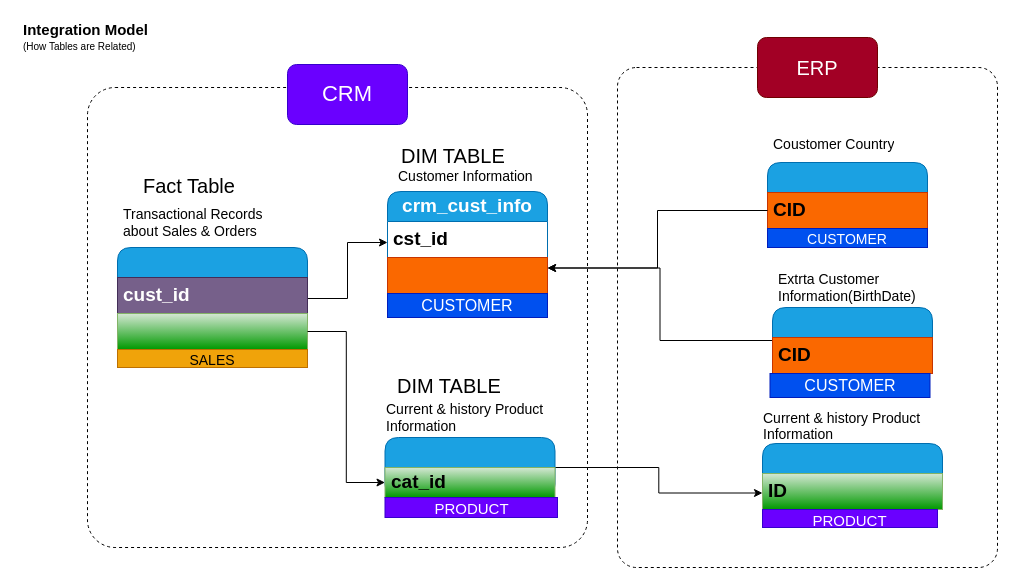
This 1015x585 diagram has some shape labels left out. The shapes that lost their labels are listed below. From the top down, each one's box as (x1, y1, x2, y2) in pixels, then its label:
(766, 162, 928, 228): erp_loc_a101
(386, 256, 548, 294): cst_key
(116, 246, 308, 350): crm_sales_details
(116, 312, 308, 350): prd-key
(772, 306, 932, 374): erp_cust_az12
(384, 436, 555, 498): crm_prd_info
(762, 442, 942, 510): erp_px_cat_g1v2
